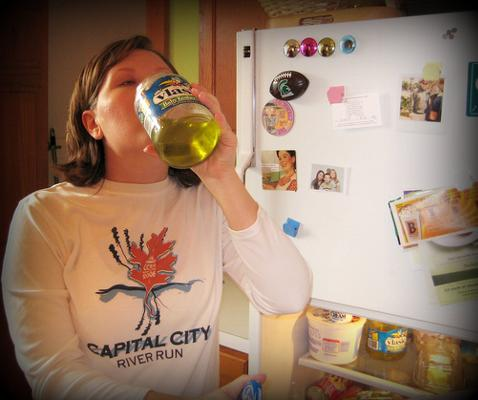person: (1, 32, 316, 400)
